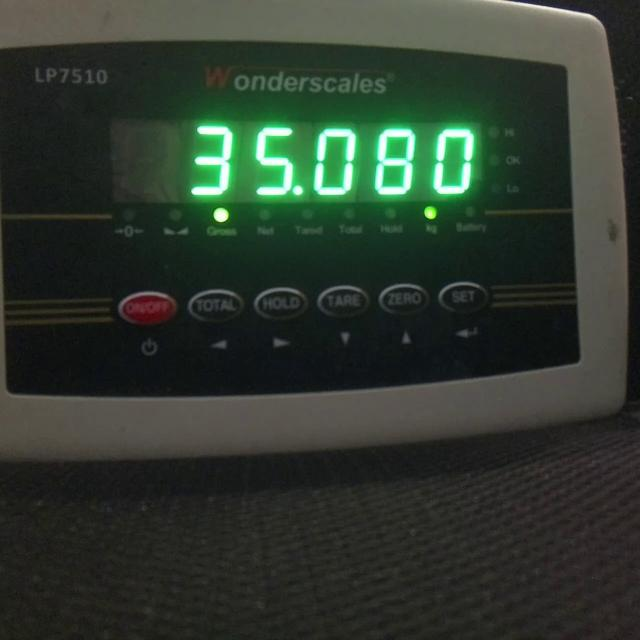.: (292, 182, 306, 196)
0: (314, 127, 356, 196), (433, 127, 474, 194)
3: (191, 115, 233, 204)
5: (254, 126, 297, 197)
8: (374, 127, 415, 195)
